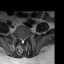CCS_normal: (22, 36, 23, 46)
LFS_normal: (25, 35, 27, 41)
LLS_normal: (23, 36, 25, 43)
RFS_normal: (18, 35, 20, 41)
RLS_normal: (20, 37, 22, 44)
